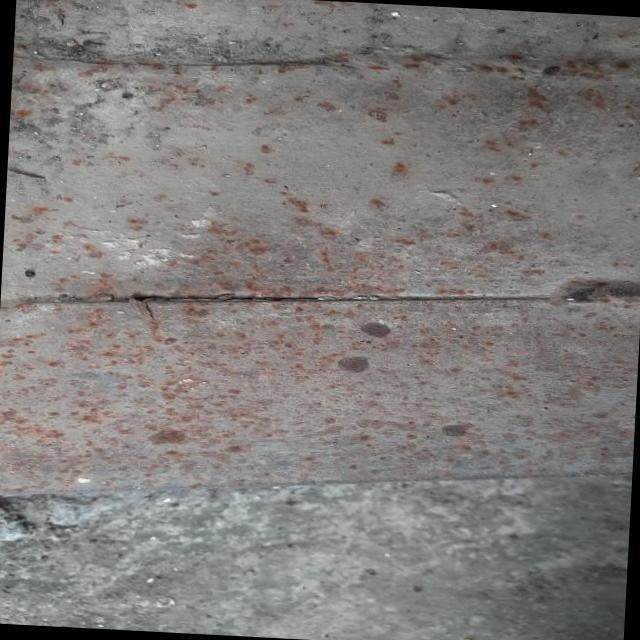defect: (113, 289, 346, 323)
